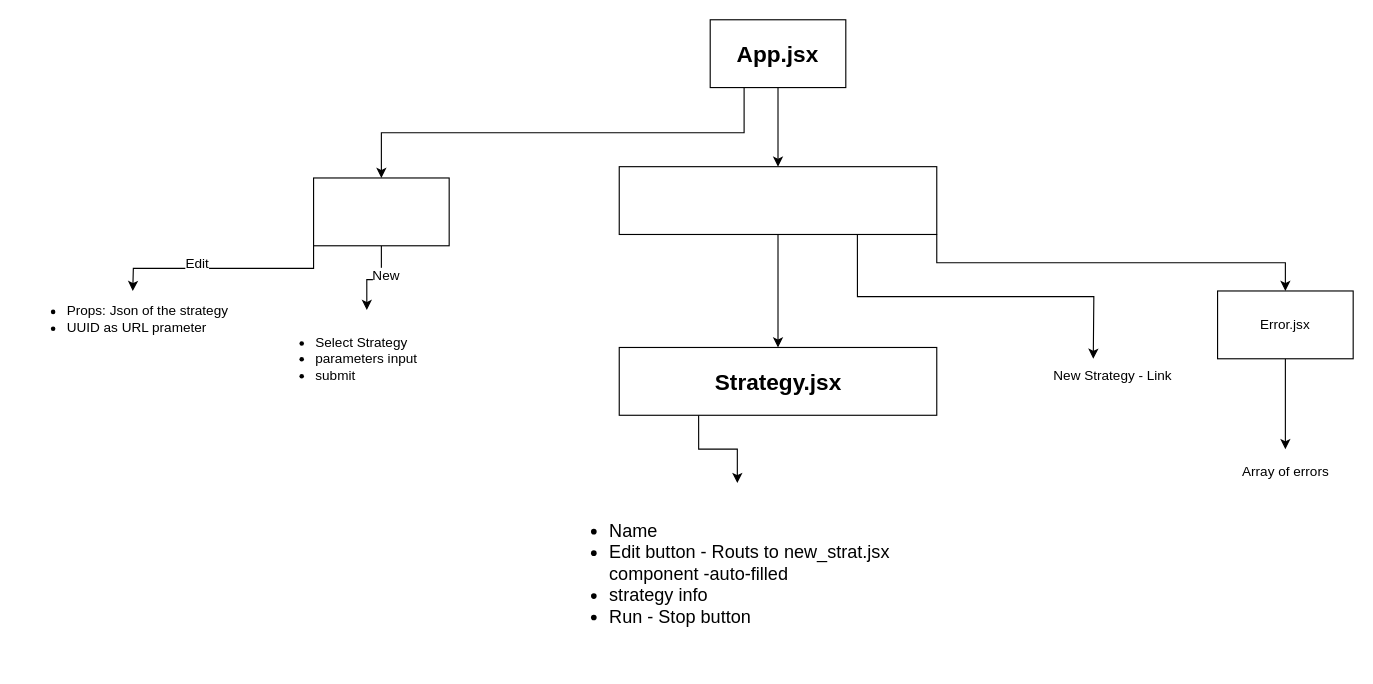
Image size: 1373x684. Some labels were removed from this diagram. The shapes that lost their labels are listed below. From the top down, each one's centre as x and y in pixels, then its label:
the point at 380,211: New_strat.jsx
the point at 777,200: Dashboard.jsx
